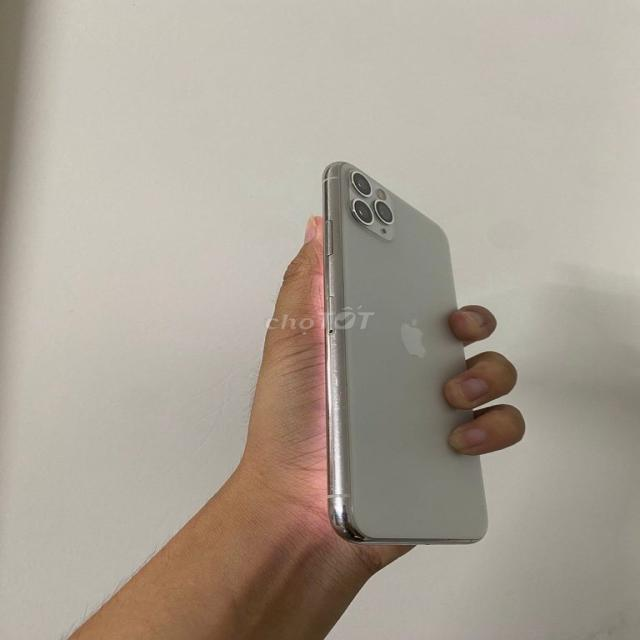gen_11: (300, 150, 497, 564)
